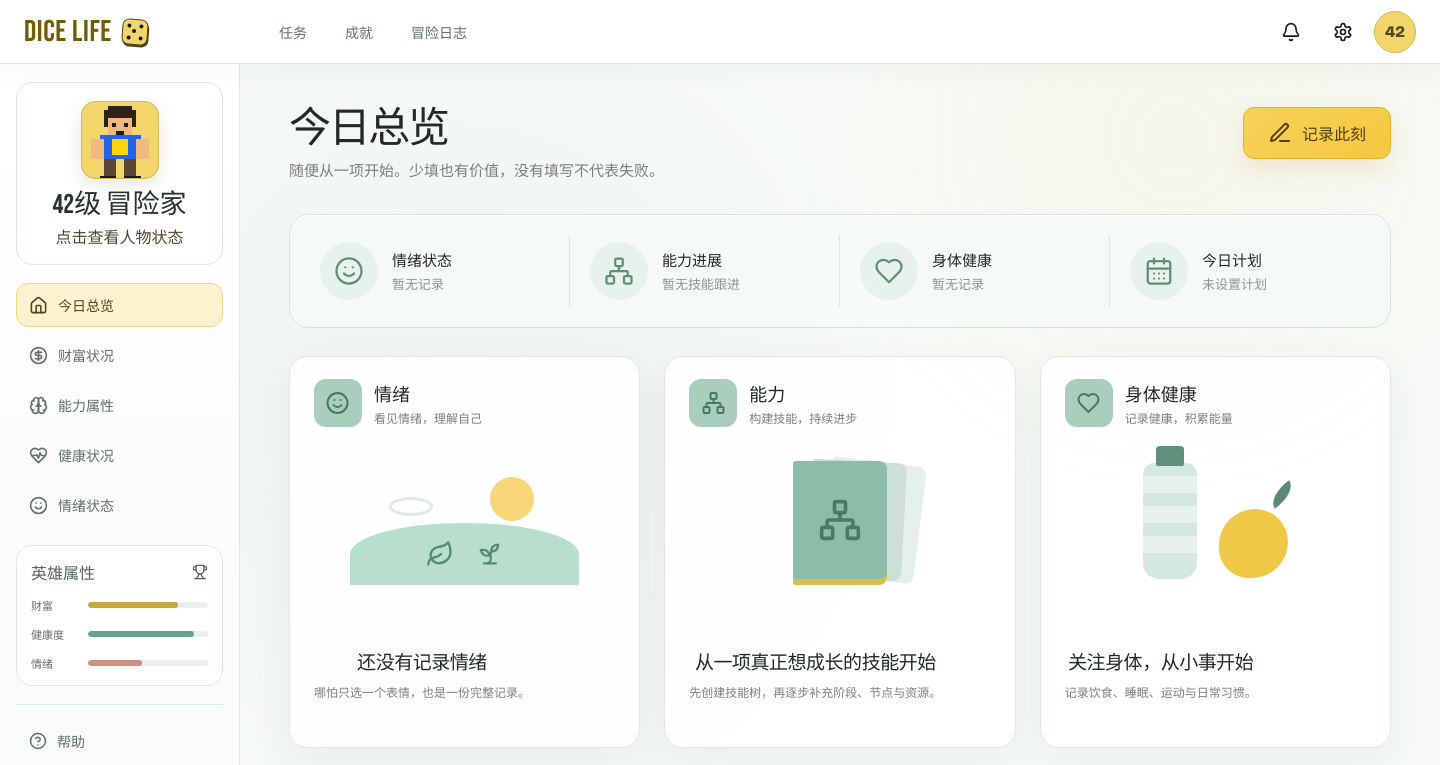
Test: Dice Life adventure journal navigation › guides a zero-balance visitor to the existing task center
Click the button "冒险日志": click(439, 32) [396,10,482,54]
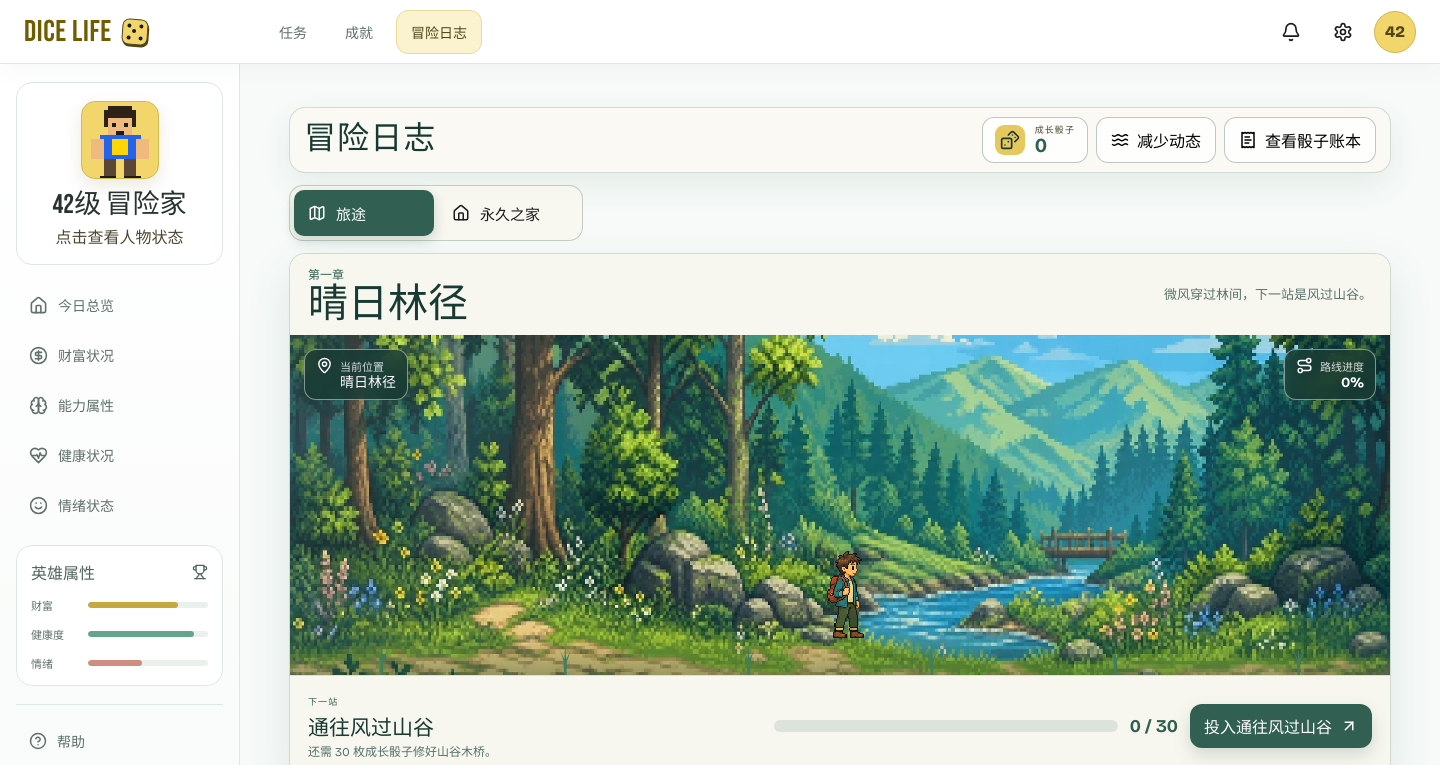
Click the button "投入通往风过山谷": click(1281, 726) [1190,704,1372,748]
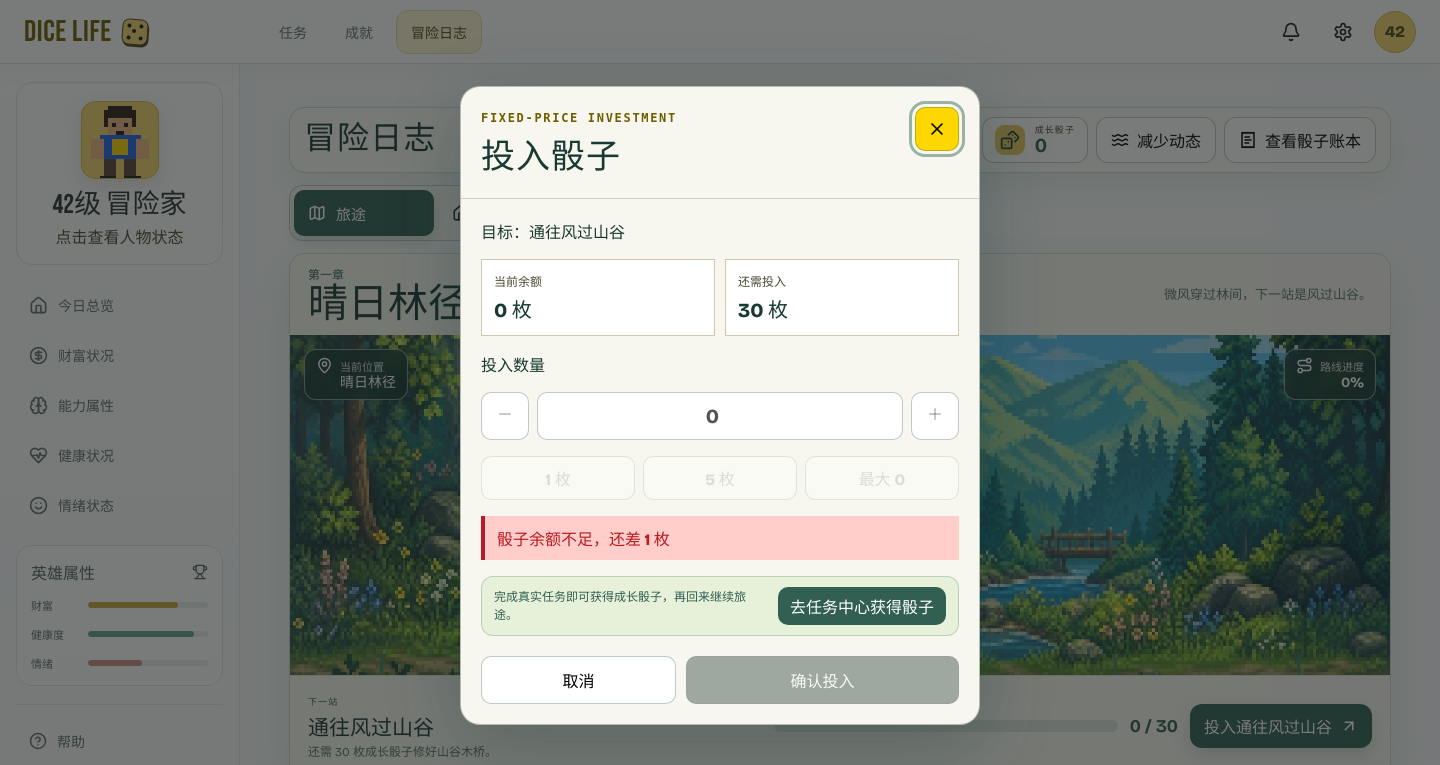
Check: the text "完成真实任务即可获得成长骰子，再回来继续旅途。" is shown, box [494,588,768,624]
Click the button "去任务中心获得骰子": click(862, 606) [778,586,946,624]
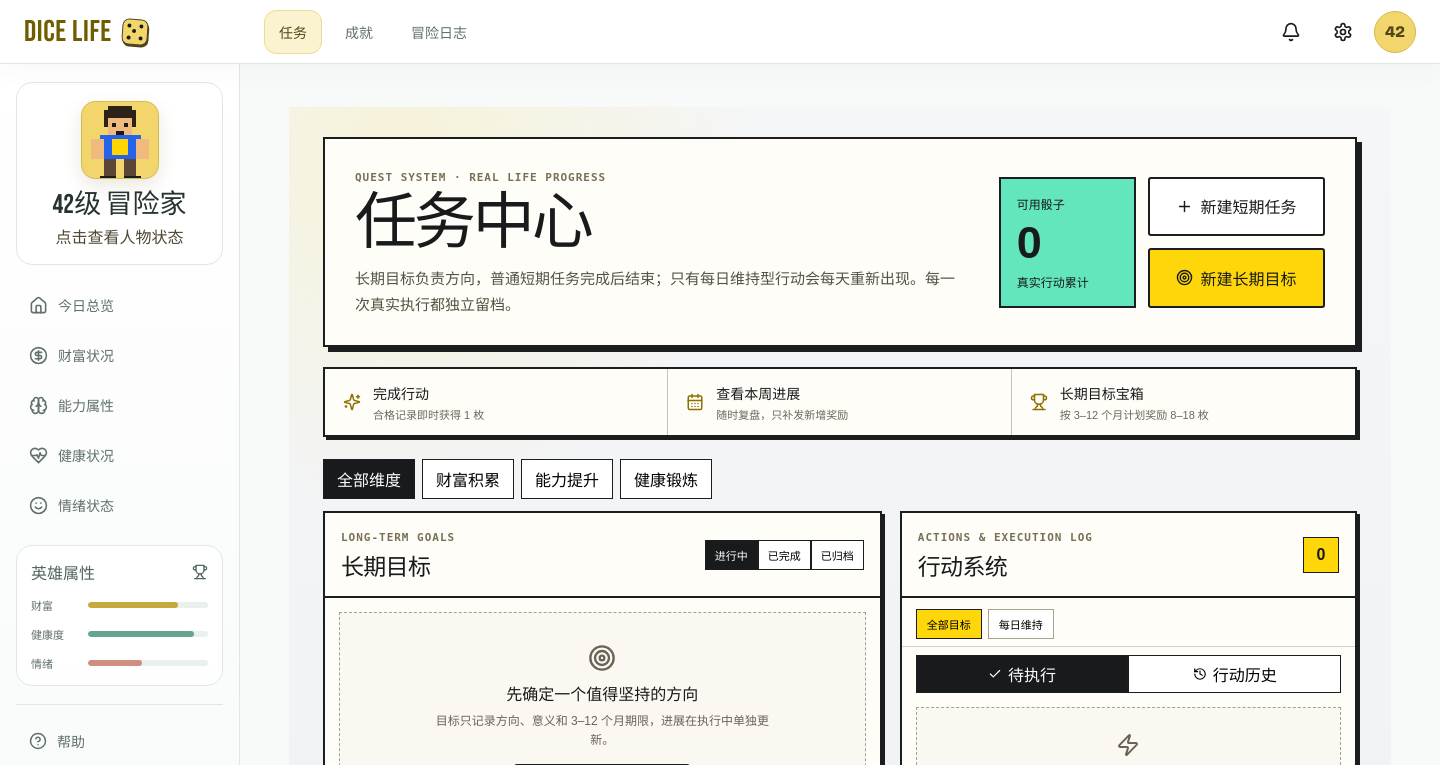
Check: the heading "任务中心" is shown, box [355,187,591,256]
Check: the heading "投入骰子" is gone
